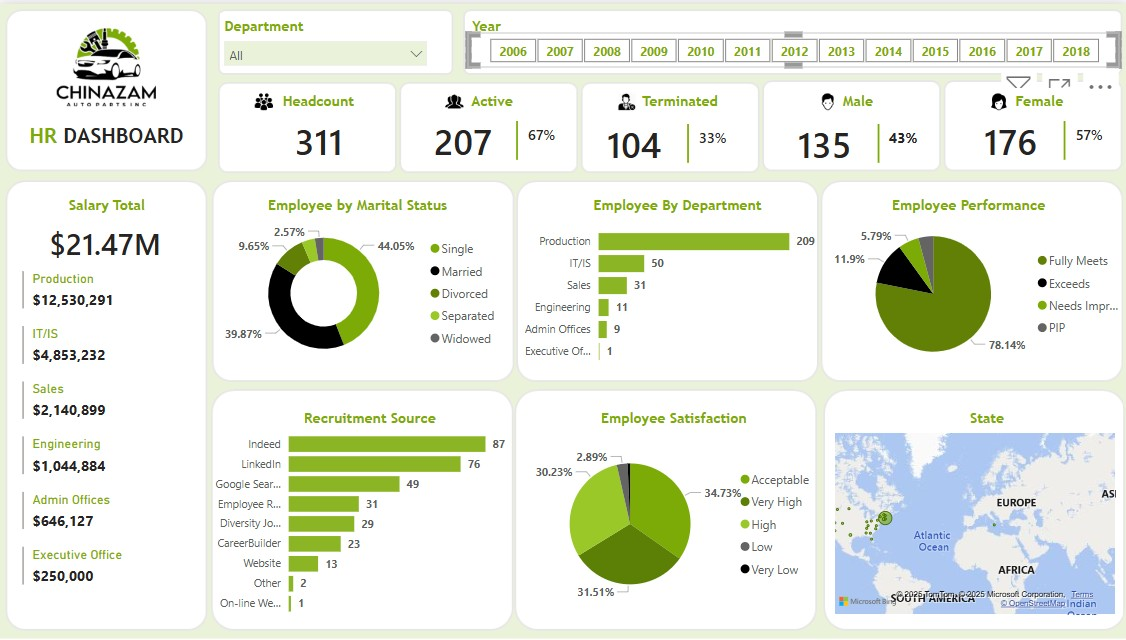

The page's visual inventory and layout, read from the dashboard file:
{"tool":"powerbi","page":{"name":"Page 1","canvas":[1280,720],"ordinal":0},"visuals":[{"type":"image","box":[60.3,9.7,122.6,122.6],"z":0},{"type":"card","fields":{"Values":["All measures.Active"]},"box":[474.7,132.3,101.2,43.8],"z":0,"group":"g1"},{"type":"card","fields":{"Values":["All measures.Female"]},"box":[1093.3,132.3,101.2,43.8],"z":0,"group":"g3"},{"type":"card","fields":{"Values":["All measures.Terminated"]},"box":[667.2,136.2,101.2,43.8],"z":0,"group":"g2"},{"type":"card","fields":{"Values":["All measures.Male"]},"box":[883.2,136.2,101.2,43.8],"z":0,"group":"g4"},{"type":"textbox","box":[30.2,128.4,196.5,41.8],"z":1000},{"type":"card","fields":{"Values":["All measures.Active %"]},"box":[586.6,128.4,55.4,40.9],"z":1000,"group":"g1"},{"type":"card","fields":{"Values":["All measures.Female %"]},"box":[1205.2,128.4,55.4,40.9],"z":1000,"group":"g3"},{"type":"card","fields":{"Values":["All measures.Terminated %"]},"box":[779.1,132.3,55.4,40.9],"z":1000,"group":"g2"},{"type":"card","fields":{"Values":["All measures.Male %"]},"box":[995.1,132.3,55.4,40.9],"z":1000,"group":"g4"},{"type":"textbox","box":[250.9,10.7,119.6,41.8],"z":2000},{"type":"shape","box":[575.9,132.3,20.4,43.8],"z":2000,"group":"g1"},{"type":"shape","box":[1194.5,132.3,20.4,43.8],"z":2000,"group":"g3"},{"type":"shape","box":[768.4,136.2,20.4,43.8],"z":2000,"group":"g2"},{"type":"shape","box":[984.4,136.2,20.4,43.8],"z":2000,"group":"g4"},{"type":"slicer","fields":{"Values":["HRData.Department"]},"box":[246.1,32.1,249,39.9],"z":3000},{"type":"slicer","fields":{"Values":["HRData.Hiring Year"]},"box":[531.1,32.1,737.3,39.9],"z":4000},{"type":"textbox","box":[531.1,10.7,53.5,35],"z":5000},{"type":"textbox","box":[311.2,94.3,100.2,34],"z":6000},{"type":"textbox","box":[520.4,94.3,75.9,34],"z":7000},{"type":"textbox","box":[718.8,94.3,104.1,34],"z":8000},{"type":"textbox","box":[922.1,94.3,99.2,34],"z":9000},{"type":"textbox","box":[1127.3,94.3,99.2,34],"z":10000},{"type":"textbox","box":[62.2,212,120.6,34],"z":11000},{"type":"textbox","box":[667.2,212,213,34],"z":12000},{"type":"textbox","box":[1005.7,212,199.4,34],"z":13000},{"type":"textbox","box":[340.4,452.3,182.9,34],"z":14000},{"type":"textbox","box":[676,452.3,184.8,34],"z":15000},{"type":"textbox","box":[1093.3,452.3,64.2,34],"z":16000},{"type":"textbox","box":[299.6,212,223.7,34],"z":17000},{"type":"card","fields":{"Values":["All measures.Headcount"]},"box":[320,132.3,83.6,43.8],"z":18000},{"type":"group","id":"g1","title":"Group 1","box":[474.7,128.4,167.3,47.7],"z":19000},{"type":"group","id":"g2","title":"Group 1","box":[667.2,132.3,167.3,47.7],"z":20000},{"type":"group","id":"g3","title":"Group 1","box":[1093.3,128.4,167.3,47.7],"z":21000},{"type":"group","id":"g4","title":"Group 1","box":[883.2,132.3,167.3,47.7],"z":22000},{"type":"donutChart","fields":{"Y":["All measures.Headcount"],"Category":["HRData.MaritalStatus"]},"box":[243.2,236.4,332.6,181.9],"z":22001},{"type":"clusteredBarChart","fields":{"Y":["All measures.Headcount"],"Category":["HRData.Department"]},"box":[575.8,236.4,357.9,181.9],"z":22002},{"type":"pieChart","fields":{"Y":["All measures.Headcount"],"Category":["HRData.PerformanceScore"]},"box":[933.7,230.5,346.3,193.6],"z":22003},{"type":"clusteredBarChart","fields":{"Y":["All measures.Headcount"],"Category":["HRData.RecruitmentSource"]},"box":[227.6,465.9,351.1,234.4],"z":22004},{"type":"pieChart","fields":{"Y":["All measures.Headcount"],"Category":["HRData.Satisfaction Status"]},"box":[584.6,486.3,346.3,201.3],"z":22005},{"type":"map","fields":{"Size":["All measures.Headcount"],"Category":["HRData.State"]},"box":[941.5,479.5,326.8,215],"z":22006},{"type":"card","fields":{"Values":["All measures.Salary"]},"box":[47.7,246.1,146.9,50.6],"z":22007},{"type":"multiRowCard","fields":{"Values":["All measures.Salary","HRData.Department"]},"box":[22.4,296.7,196.5,397.8],"z":22008},{"type":"image","box":[1115.6,94.3,31,31.1],"z":22009},{"type":"image","box":[922.1,95.3,31.1,31.1],"z":22010},{"type":"image","box":[284,95.3,31.1,31.1],"z":22011},{"type":"image","box":[695.4,95.3,31.1,31.1],"z":22012},{"type":"image","box":[499.9,95.3,31.1,31.1],"z":22013}]}

Visuals, with their boxes in screenshot pixels (x1, y1, x2, y2), scaled from the page's 1280x720 canvas onto the 1126x640 screenshot:
image: select_region(53, 9, 161, 118)
card - All measures.Active: select_region(418, 118, 507, 157)
card - All measures.Female: select_region(962, 118, 1051, 157)
card - All measures.Terminated: select_region(587, 121, 676, 160)
card - All measures.Male: select_region(777, 121, 866, 160)
textbox: select_region(27, 114, 199, 151)
card - All measures.Active %: select_region(516, 114, 565, 150)
card - All measures.Female %: select_region(1060, 114, 1109, 150)
card - All measures.Terminated %: select_region(685, 118, 734, 154)
card - All measures.Male %: select_region(875, 118, 924, 154)
textbox: select_region(221, 10, 326, 47)
shape: select_region(507, 118, 525, 157)
shape: select_region(1051, 118, 1069, 157)
shape: select_region(676, 121, 694, 160)
shape: select_region(866, 121, 884, 160)
slicer - HRData.Department: select_region(216, 29, 436, 64)
slicer - HRData.Hiring Year: select_region(467, 29, 1116, 64)
textbox: select_region(467, 10, 514, 41)
textbox: select_region(274, 84, 362, 114)
textbox: select_region(458, 84, 525, 114)
textbox: select_region(632, 84, 724, 114)
textbox: select_region(811, 84, 898, 114)
textbox: select_region(992, 84, 1079, 114)
textbox: select_region(55, 188, 161, 219)
textbox: select_region(587, 188, 774, 219)
textbox: select_region(885, 188, 1060, 219)
textbox: select_region(299, 402, 460, 432)
textbox: select_region(595, 402, 757, 432)
textbox: select_region(962, 402, 1018, 432)
textbox: select_region(264, 188, 460, 219)
card - All measures.Headcount: select_region(282, 118, 355, 157)
"Group 1" group: select_region(418, 114, 565, 157)
"Group 1" group: select_region(587, 118, 734, 160)
"Group 1" group: select_region(962, 114, 1109, 157)
"Group 1" group: select_region(777, 118, 924, 160)
donutChart - All measures.Headcount x HRData.MaritalStatus: select_region(214, 210, 507, 372)
clusteredBarChart - All measures.Headcount x HRData.Department: select_region(507, 210, 821, 372)
pieChart - All measures.Headcount x HRData.PerformanceScore: select_region(821, 205, 1125, 377)
clusteredBarChart - All measures.Headcount x HRData.RecruitmentSource: select_region(200, 414, 509, 622)
pieChart - All measures.Headcount x HRData.Satisfaction Status: select_region(514, 432, 819, 611)
map - All measures.Headcount x HRData.State: select_region(828, 426, 1116, 617)
card - All measures.Salary: select_region(42, 219, 171, 264)
multiRowCard - All measures.Salary x HRData.Department: select_region(20, 264, 193, 617)
image: select_region(981, 84, 1009, 111)
image: select_region(811, 85, 839, 112)
image: select_region(250, 85, 277, 112)
image: select_region(612, 85, 639, 112)
image: select_region(440, 85, 467, 112)
